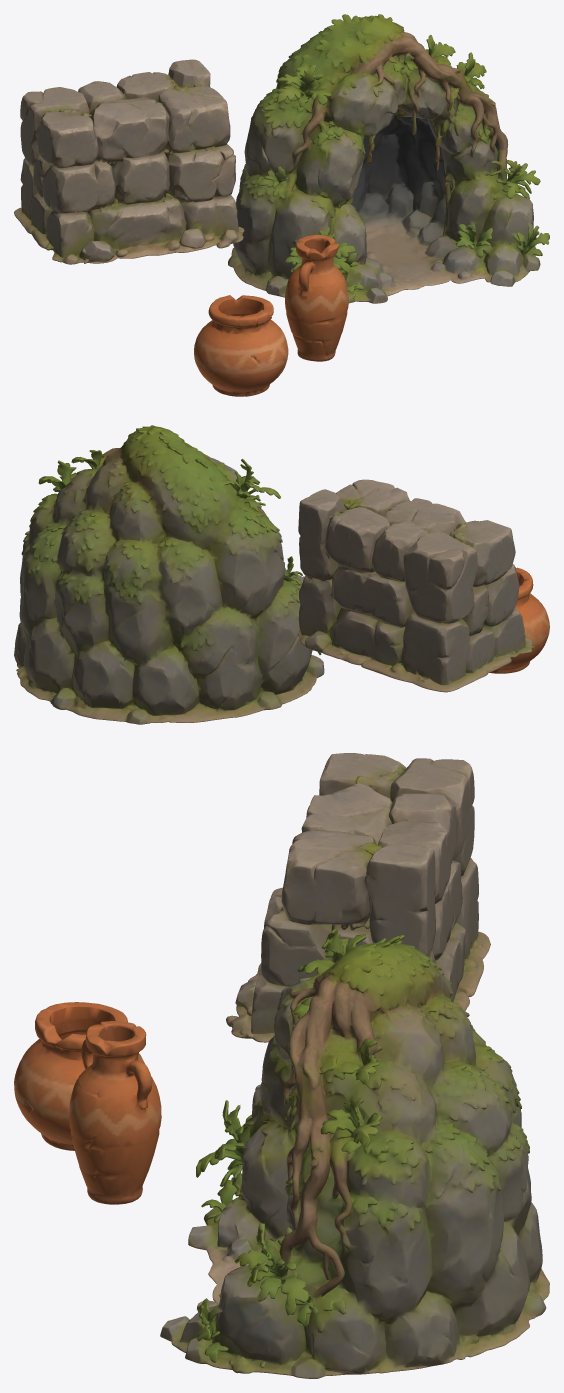
File: muro_ruina.glb
3 views of the same model, one above another, from view 1: azimuth 30°, elevation 25°; view 2: azimuth 150°, elevation 25°; view 3: azimuth 270°, elevation 25° (orthographic). The views are drawn at different scales.
Visible parts, largest first — view 1: tripo_node_5d23bd19-2993-484c-8c6f-099141873553; view 2: tripo_node_5d23bd19-2993-484c-8c6f-099141873553; view 3: tripo_node_5d23bd19-2993-484c-8c6f-099141873553.
Boxes of the visible parts, <box> form: tripo_node_5d23bd19-2993-484c-8c6f-099141873553: <box>14,14,549,396</box>; tripo_node_5d23bd19-2993-484c-8c6f-099141873553: <box>14,425,549,724</box>; tripo_node_5d23bd19-2993-484c-8c6f-099141873553: <box>14,753,549,1378</box>.
Bounding box in the file's own units: 1 × 0.4858 × 0.6759.
Materials: 1 (1 with a texture image).
